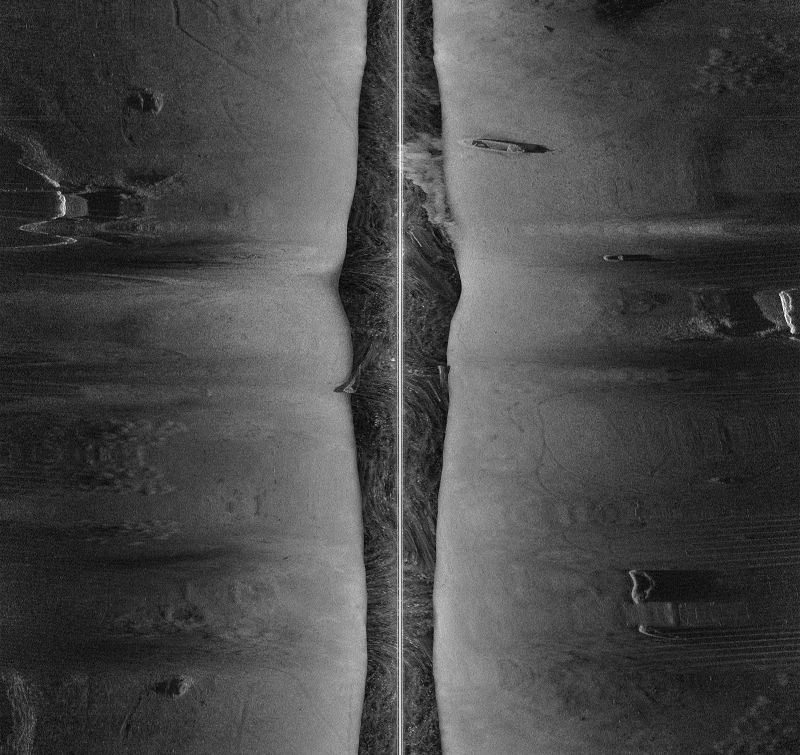ship: (456, 137, 523, 154), (602, 252, 624, 263)
